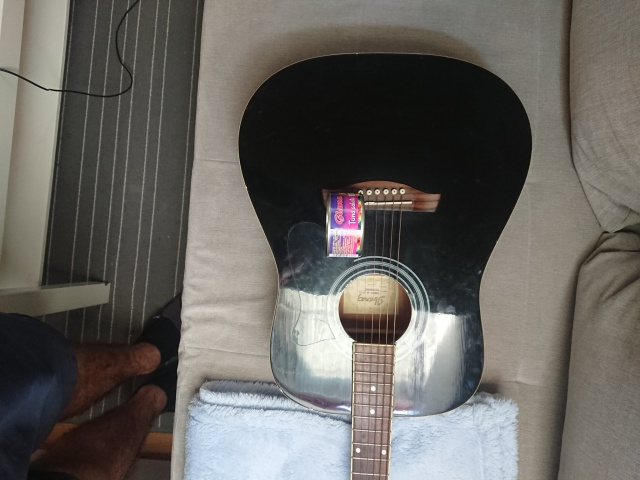Giana Tuna Salad Mexico 185g: (322, 190, 367, 260)
